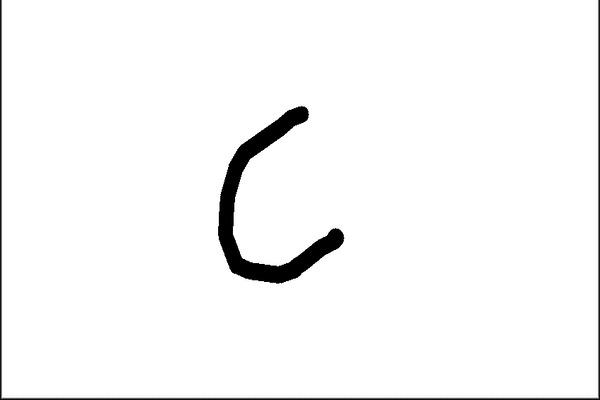C: (210, 97, 346, 286)
